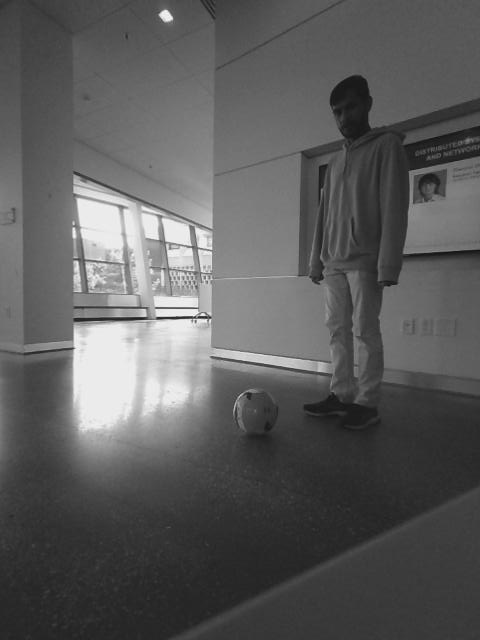ball: (232, 385, 282, 438)
